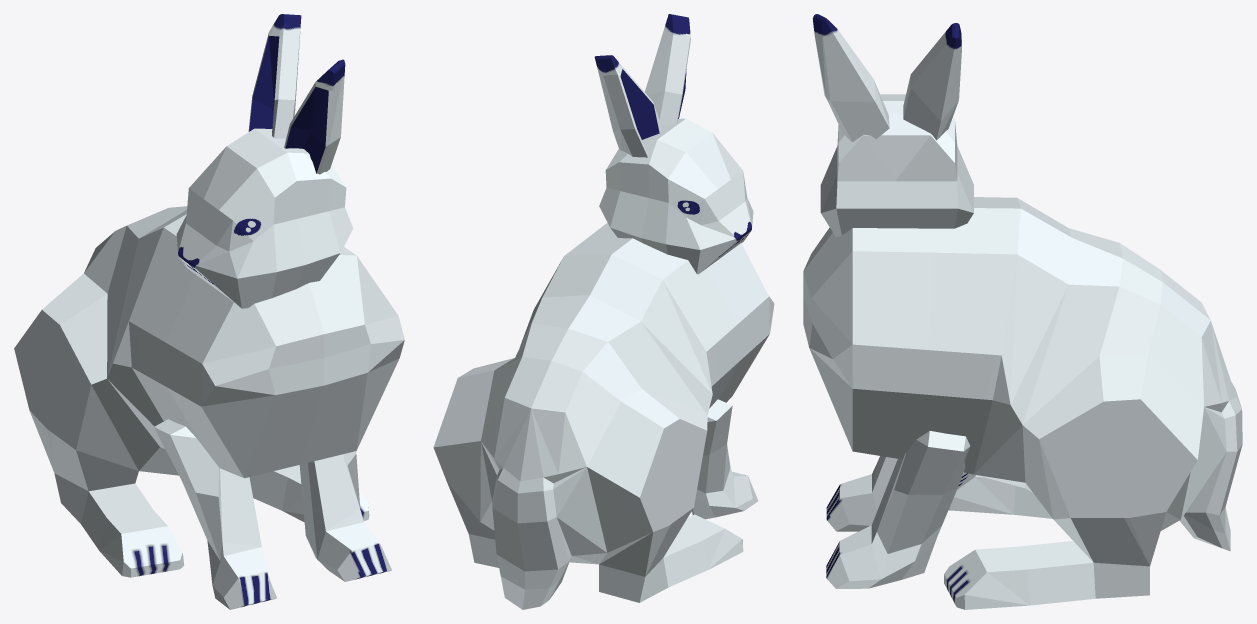
Rendered from Hare.fbx.
3 renders of one model, left to right at view 1: azimuth 30°, elevation 25°; view 2: azimuth 150°, elevation 25°; view 3: azimuth 270°, elevation 25°, orthographic. The views are drawn at different scales.
Visible parts, largest first — view 1: hare; view 2: hare; view 3: hare.
Part boxes in pixels (x1=…): hare: x1=14, y1=14, x2=404, y2=609; hare: x1=433, y1=14, x2=774, y2=609; hare: x1=803, y1=14, x2=1242, y2=609.
Bounding box in the file's own units: 51.78 × 106 × 77.61.
